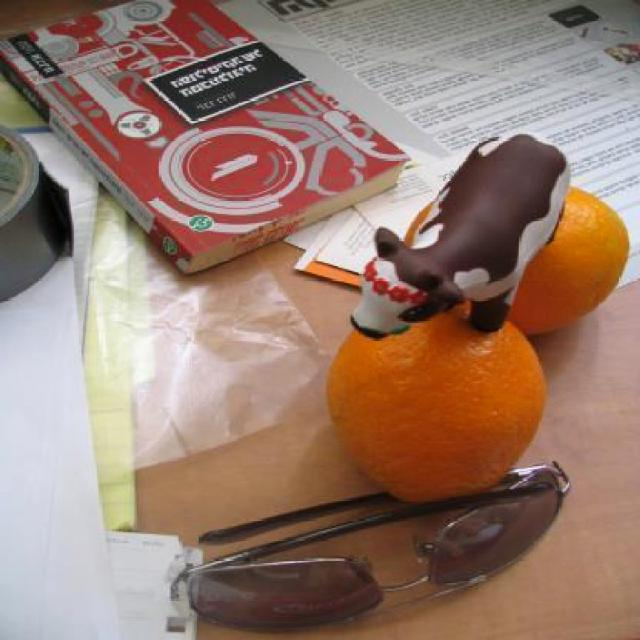glasses: (170, 461, 572, 634)
